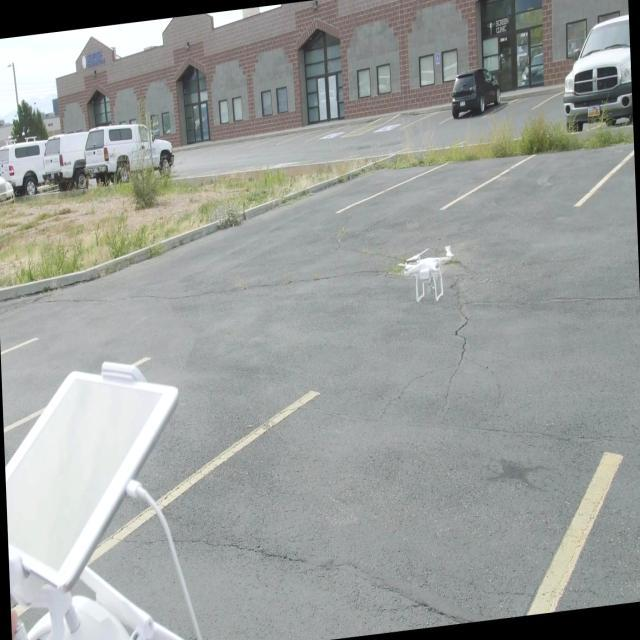drone: (397, 240, 456, 316)
